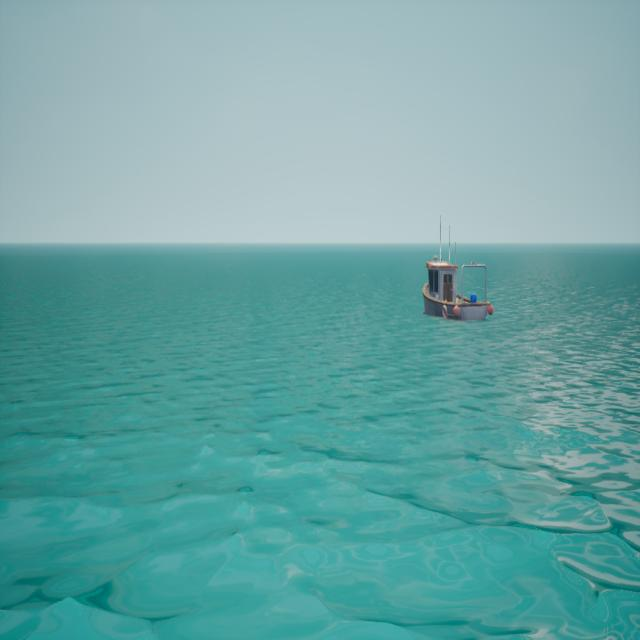ship: (422, 215, 494, 322)
